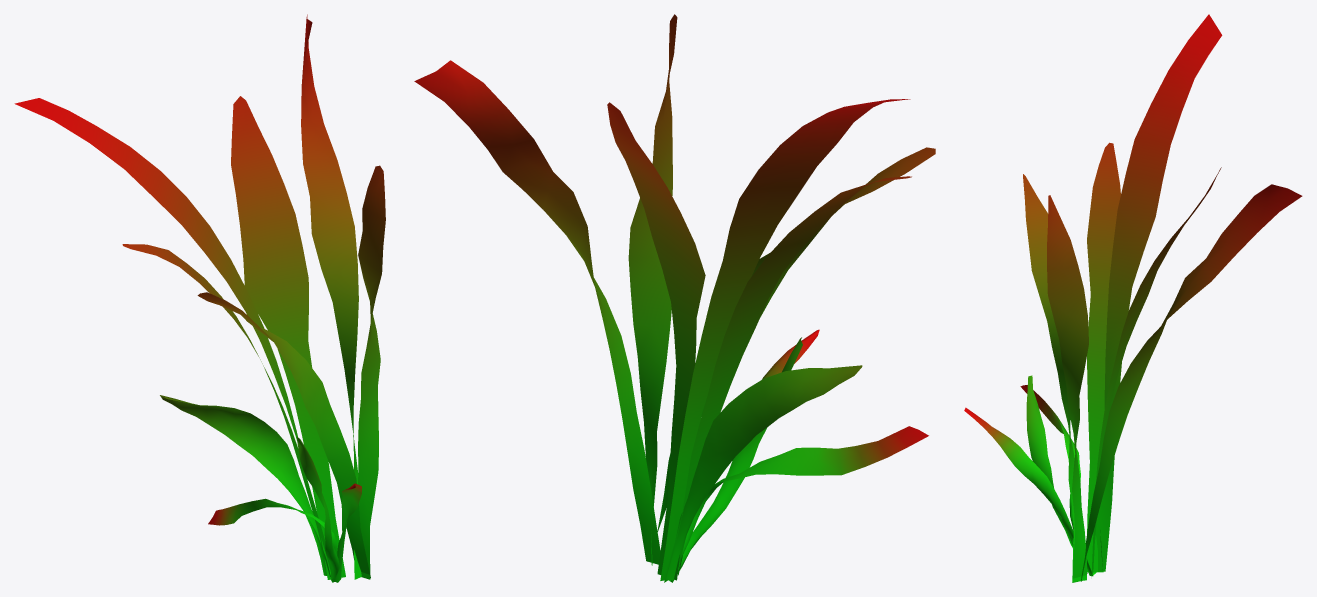
File: Snake Plant_LOD0_Var3_sgtmY.fbx
The picture shows the model from 3 angles, left to right: view 1: azimuth 30°, elevation 25°; view 2: azimuth 150°, elevation 25°; view 3: azimuth 270°, elevation 25°; orthographic projection. The views are drawn at different scales.
Parts seen in each view (by area): view 1: _2917_Var3_LOD0; view 2: _2917_Var3_LOD0; view 3: _2917_Var3_LOD0.
Part boxes in pixels (x1,y1,x2,y2): _2917_Var3_LOD0: (14, 14, 385, 582); _2917_Var3_LOD0: (414, 14, 935, 582); _2917_Var3_LOD0: (964, 14, 1302, 582).
Bounding box in the file's own units: 69.23 × 94.85 × 64.84.
